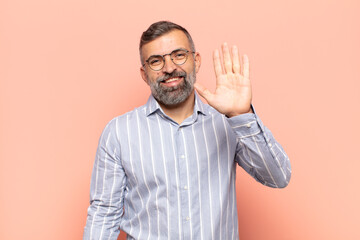Hello: (192, 38, 257, 116)
